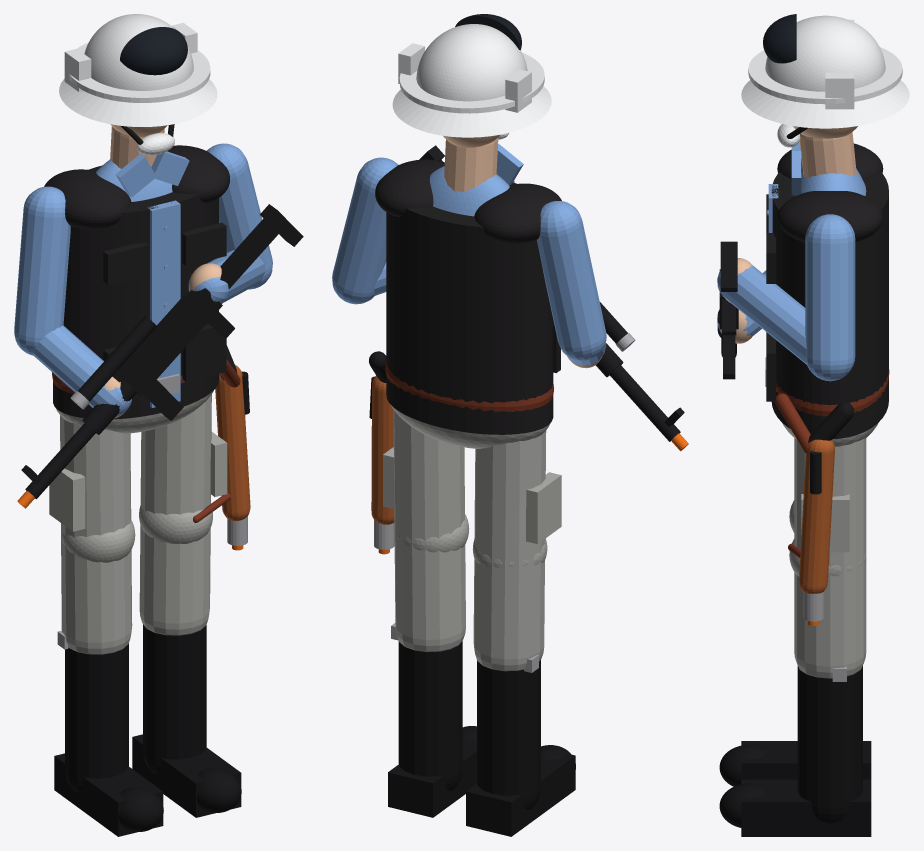
Rendered from rebel_trooper.obj.
3 renders of one model, left to right at view 1: azimuth 30°, elevation 25°; view 2: azimuth 150°, elevation 25°; view 3: azimuth 270°, elevation 25°, orthographic.
Parts seen in each view (by area): view 1: pants, boots, vest, shirt, gun, helmet, holster, visor, skin, metal, belt; view 2: vest, pants, boots, shirt, helmet, gun, skin, holster, belt, metal, visor; view 3: vest, boots, shirt, helmet, pants, holster, gun, skin, belt, visor, metal.
Part boxes in pixels (x1,y1,x2,y2): pants: (49, 390, 227, 654); boots: (54, 624, 241, 836); vest: (44, 145, 229, 419); shirt: (14, 143, 272, 415); gun: (21, 204, 303, 499); helmet: (59, 14, 217, 155); holster: (215, 365, 250, 520); visor: (120, 27, 187, 75); skin: (93, 124, 224, 418); metal: (57, 374, 247, 649); belt: (52, 359, 240, 522); vest: (375, 159, 561, 434); pants: (383, 405, 561, 671); boots: (388, 641, 575, 836); shirt: (332, 143, 606, 365); helmet: (392, 24, 551, 139); gun: (369, 145, 684, 441); skin: (443, 135, 602, 368); holster: (371, 375, 394, 524); belt: (385, 362, 553, 411); metal: (374, 333, 635, 672); visor: (455, 14, 521, 50); vest: (766, 143, 888, 438); boots: (719, 666, 871, 836); shirt: (717, 141, 866, 381); helmet: (741, 15, 909, 147); pants: (782, 423, 878, 678); holster: (799, 439, 834, 593); gun: (717, 241, 854, 494); skin: (725, 126, 857, 343); belt: (775, 370, 889, 558); visor: (763, 14, 796, 63); metal: (765, 357, 846, 681).
Bounding box in the file's own units: 0.7351 × 1.8 × 0.3998.
